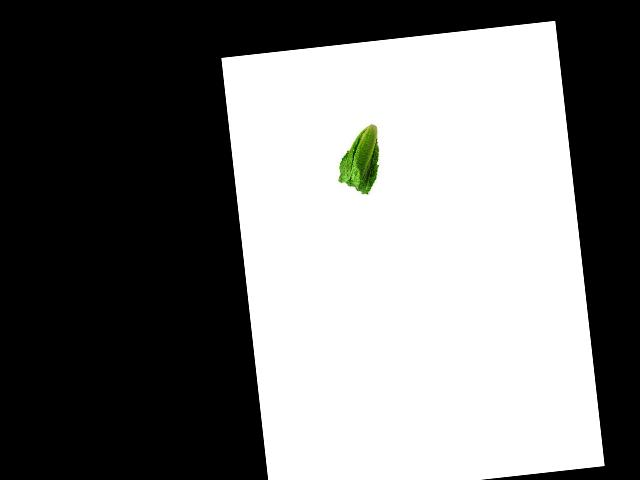lettuce: (331, 117, 385, 197)
